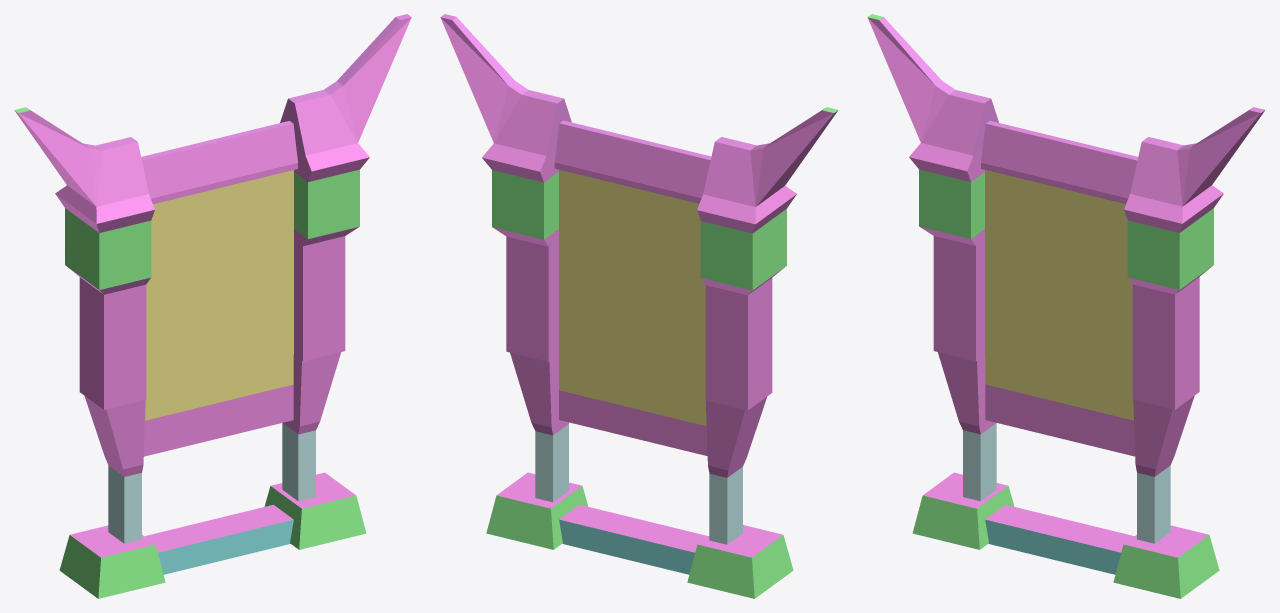
Rendered from DEd_board.gltf.
3 renders of one model, left to right at view 1: azimuth 30°, elevation 25°; view 2: azimuth 150°, elevation 25°; view 3: azimuth 330°, elevation 25°, orthographic.
Visible parts, largest first — view 1: DEd_board; view 2: DEd_board; view 3: DEd_board.
Part boxes in pixels (bbox=[...]): DEd_board: bbox=[14, 14, 411, 598]; DEd_board: bbox=[440, 14, 838, 598]; DEd_board: bbox=[867, 14, 1264, 598].
Bounding box in the file's own units: 3.34 × 3.97 × 0.6122.
